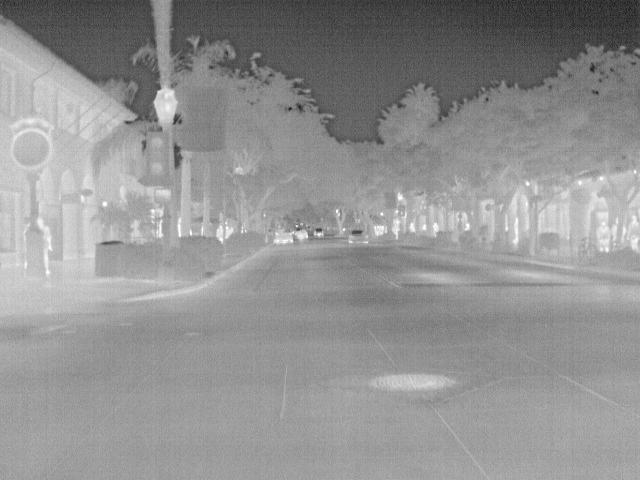car: (343, 230, 370, 246), (274, 228, 295, 246), (295, 227, 309, 241), (311, 226, 327, 238)
person: (36, 218, 55, 280), (625, 214, 639, 256), (596, 220, 615, 250), (214, 222, 226, 245)
